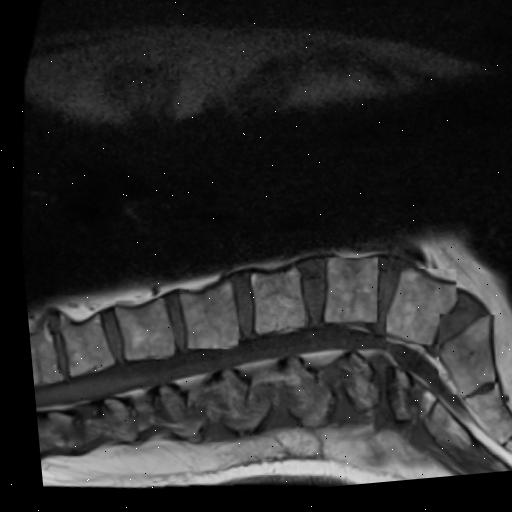L1: (109, 301, 168, 361)
L2: (175, 284, 233, 351)
L3: (246, 272, 300, 337)
L4: (318, 262, 372, 328)
L5: (380, 275, 450, 351)
S1: (432, 322, 488, 402)
